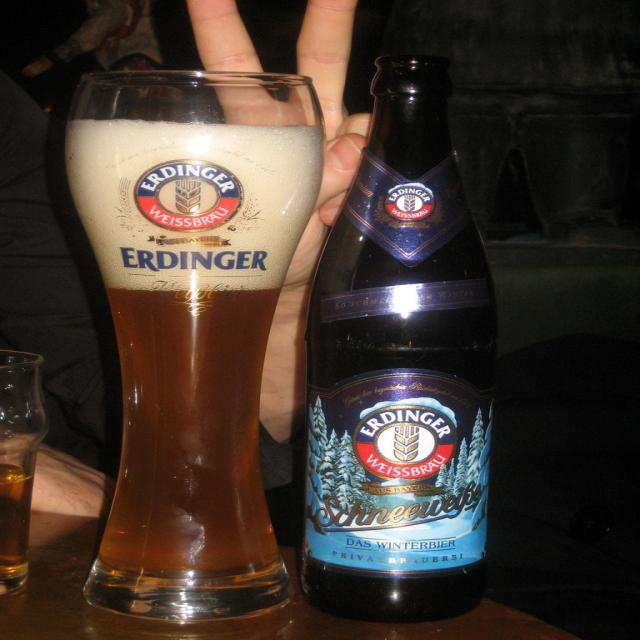erdinger: (112, 158, 278, 281), (344, 383, 484, 482), (373, 186, 450, 232)
